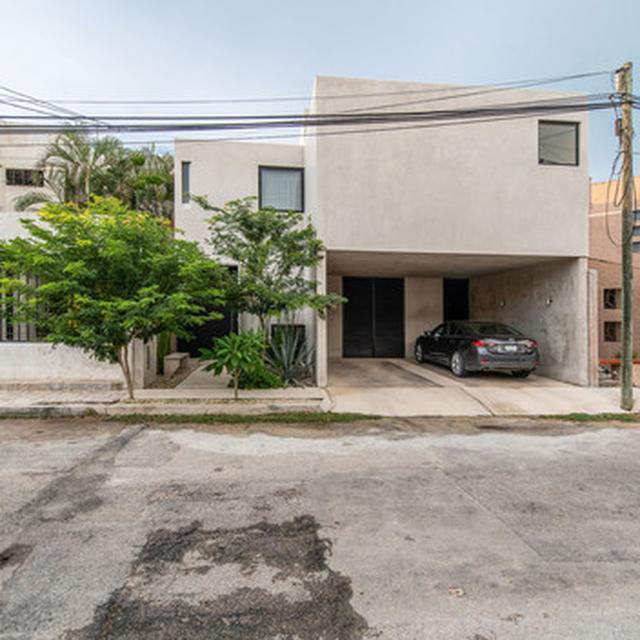building: (3, 72, 600, 386)
